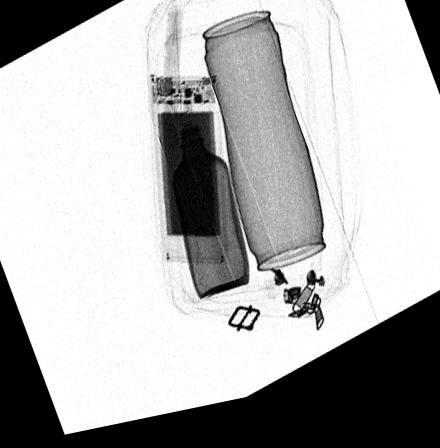Powerbank: (147, 78, 228, 274)
